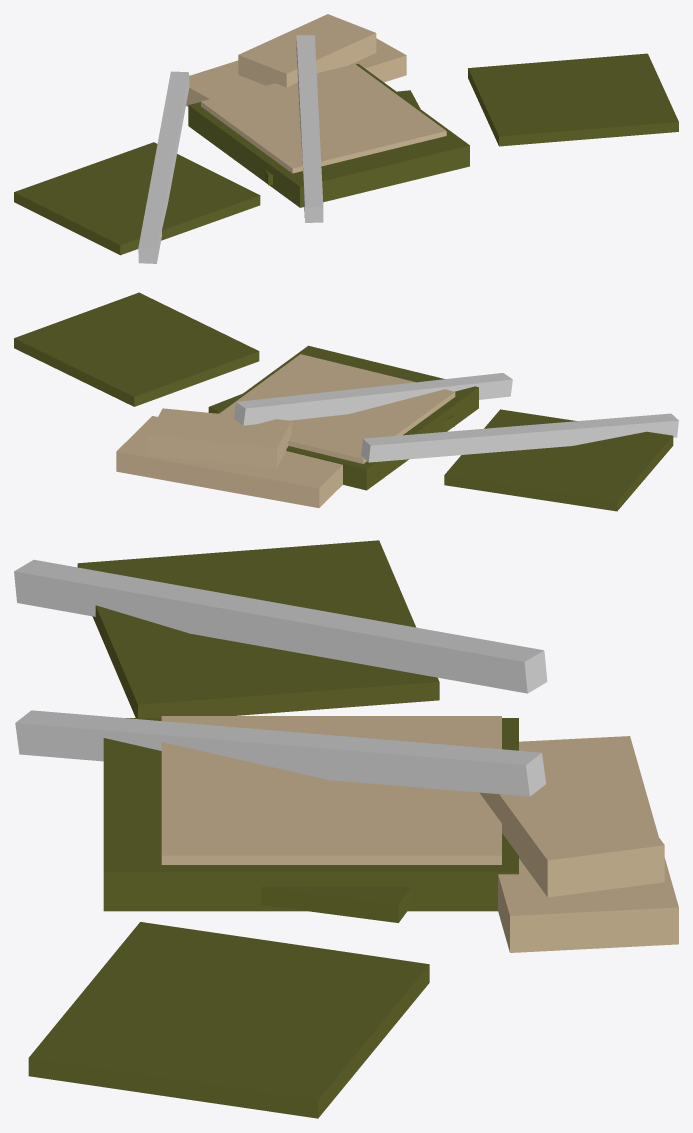
File: SM_HescoCorto1_v1_Geotextil_e3_Brecha_LOD1.fbx
3 renders of one model, top to bottom at view 1: azimuth 30°, elevation 25°; view 2: azimuth 150°, elevation 25°; view 3: azimuth 270°, elevation 25°, orthographic. The views are drawn at different scales.
Parts seen in each view (by area): view 1: SM_hesco_piezas_v47_LOD1; view 2: SM_hesco_piezas_v47_LOD1; view 3: SM_hesco_piezas_v47_LOD1.
Boxes of the visible parts, <box> form: SM_hesco_piezas_v47_LOD1: <box>14,14,678,263</box>; SM_hesco_piezas_v47_LOD1: <box>14,292,678,511</box>; SM_hesco_piezas_v47_LOD1: <box>14,540,678,1118</box>.
Bounding box in the file's own units: 3.89 × 0.351 × 1.95.
